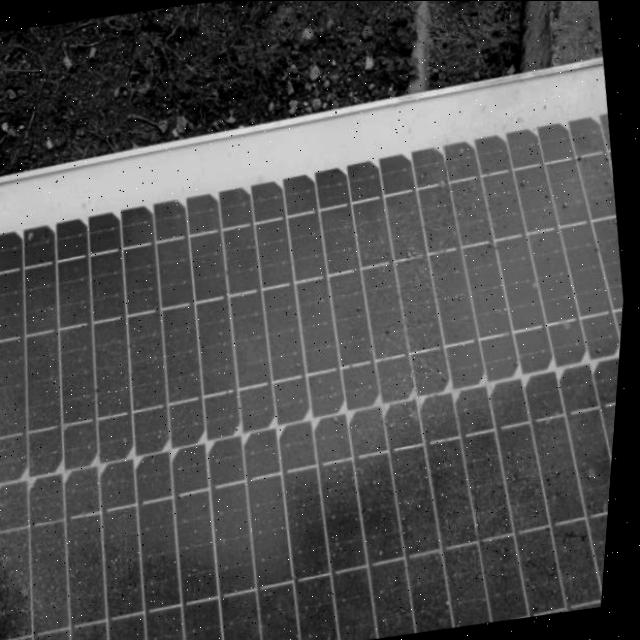Surface Contaminant: (0, 122, 628, 640)
